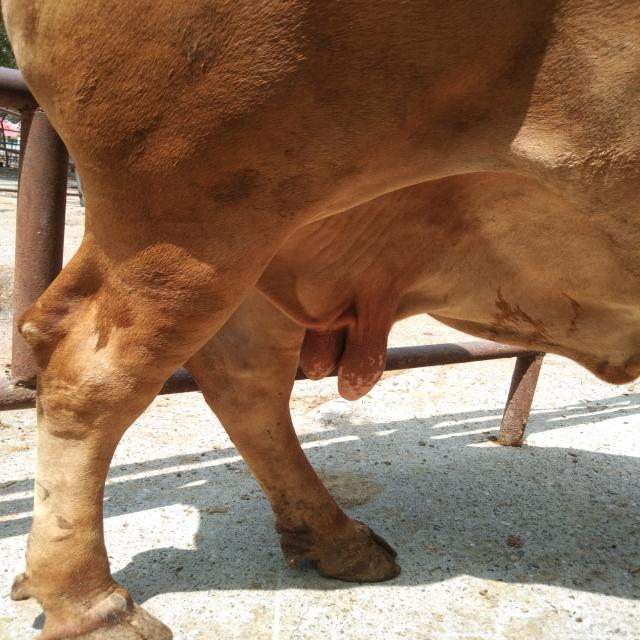Hoof: (277, 518, 402, 584), (37, 588, 174, 639)
